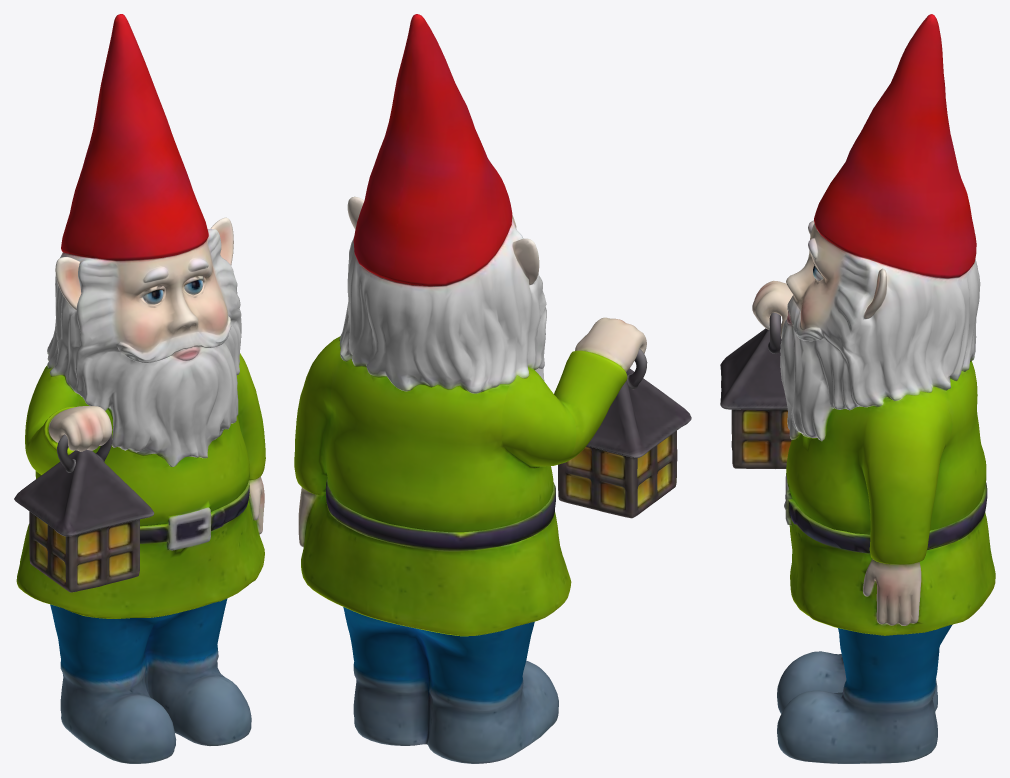
Rendered from garden_gnome.glb.
3 renders of one model, left to right at view 1: azimuth 30°, elevation 25°; view 2: azimuth 150°, elevation 25°; view 3: azimuth 270°, elevation 25°, orthographic. The views are drawn at different scales.
Visible parts, largest first — view 1: garden_gnome; view 2: garden_gnome; view 3: garden_gnome.
Boxes of the visible parts, bbox=[...] form: garden_gnome: bbox=[14, 14, 265, 763]; garden_gnome: bbox=[294, 14, 691, 763]; garden_gnome: bbox=[720, 14, 995, 763].
Bounding box in the file's own units: 0.2579 × 0.5991 × 0.2097.
Materials: 1 (1 with a texture image).
